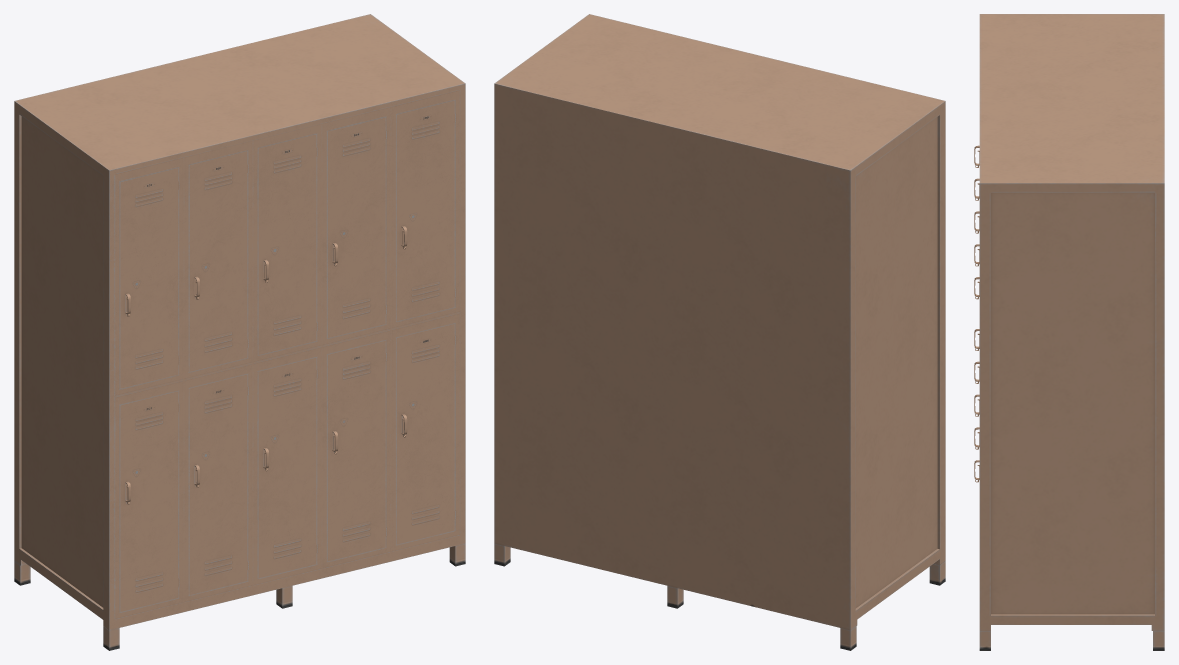
File: industrial_-_locker.glb
The picture shows the model from 3 angles, left to right: view 1: azimuth 30°, elevation 25°; view 2: azimuth 150°, elevation 25°; view 3: azimuth 270°, elevation 25°; orthographic projection. The views are drawn at different scales.
Visible parts, largest first — view 1: Object_2; view 2: Object_2; view 3: Object_2.
Part boxes in pixels (x1=…): Object_2: x1=14, y1=14, x2=465, y2=650; Object_2: x1=494, y1=14, x2=945, y2=650; Object_2: x1=974, y1=14, x2=1164, y2=650.
Bounding box in the file's own units: 12.48 × 16.07 × 5.93.
Materials: 1 (1 with a texture image).
